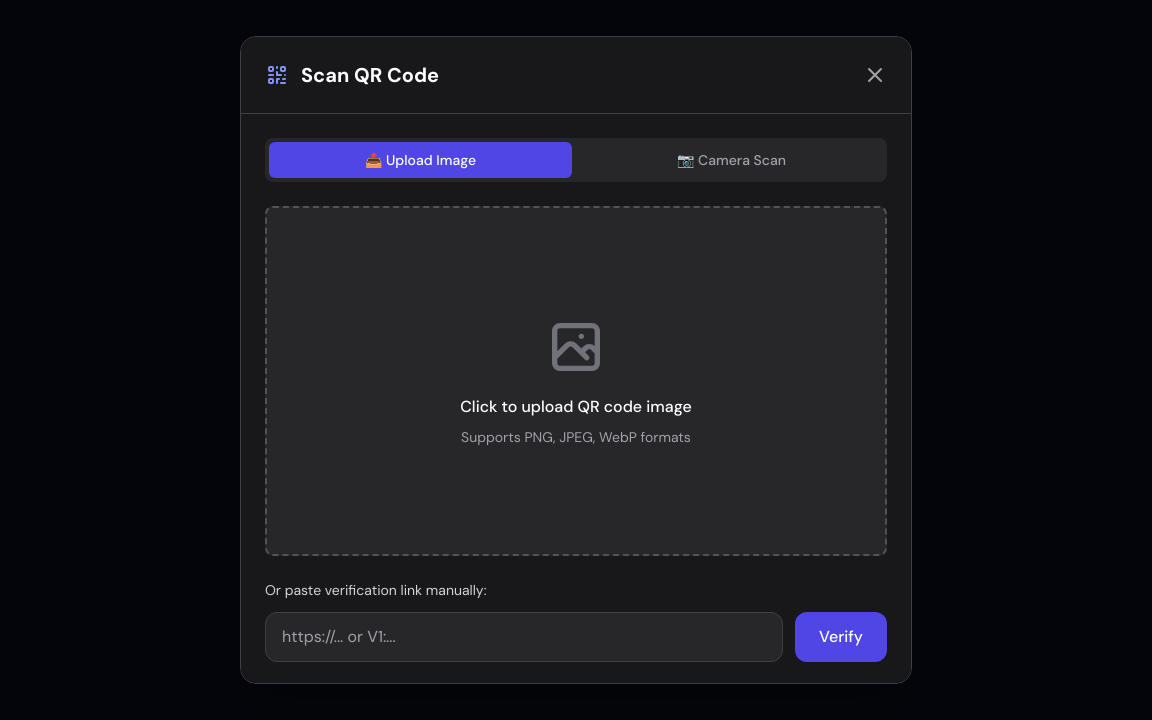
it: QRScanner › decodes V1 payloads and renders verified certificate details
Step 1. Type "V1:payload" into the field with placeholder "https://... or V1:..." → [524, 637], box [265,612,783,662]
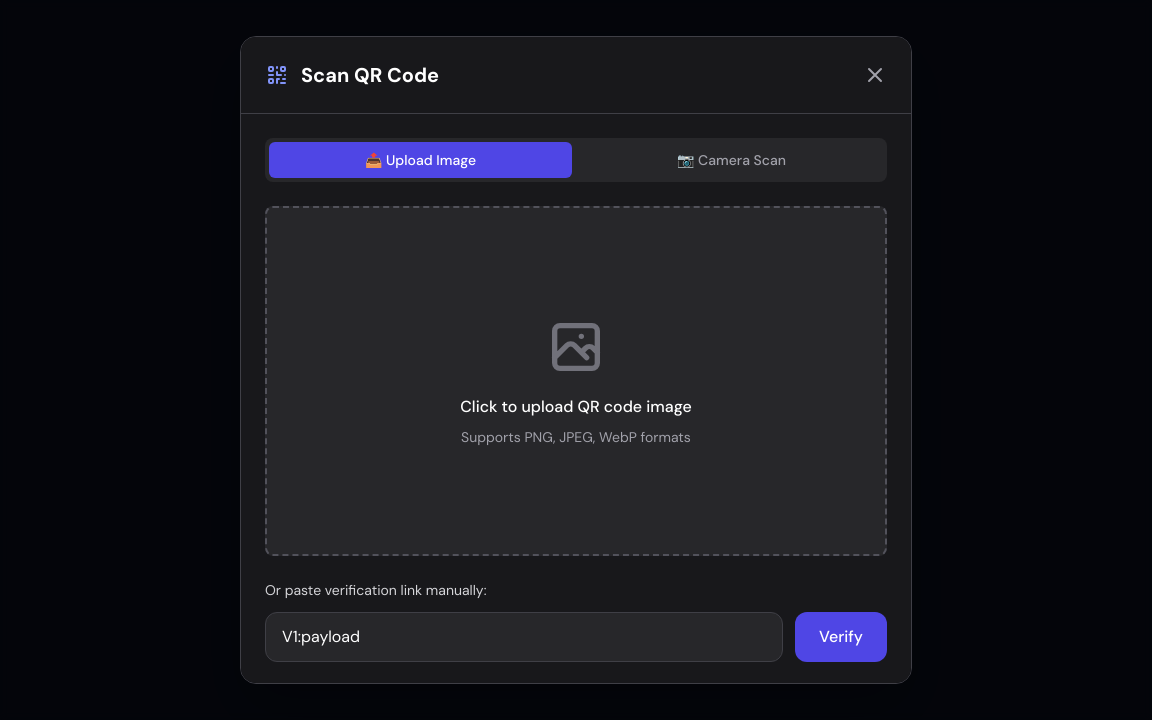
Step 2. Click the button "Verify" → [841, 637], box [795,612,887,662]
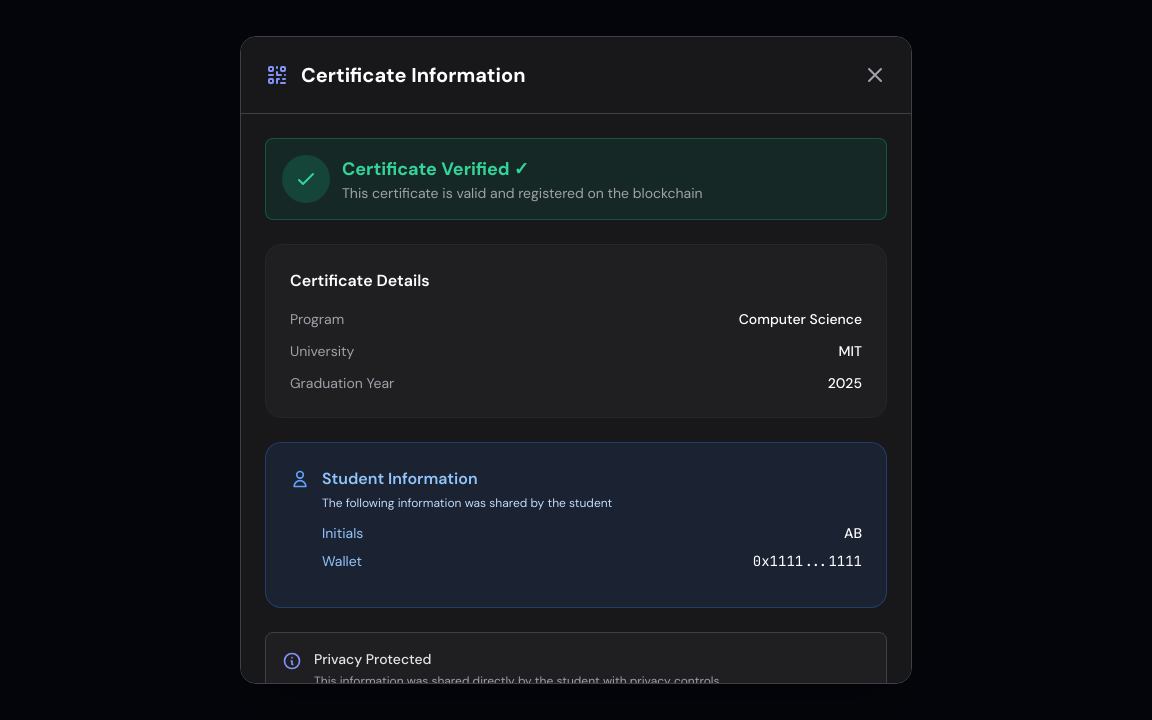
Expected: the heading "Certificate Verified ✓" is shown, [342,157,529,181]
Expected: the text "Computer Science" is shown, [739,309,862,329]
Expected: the text "MIT" is shown, [839,341,862,361]
